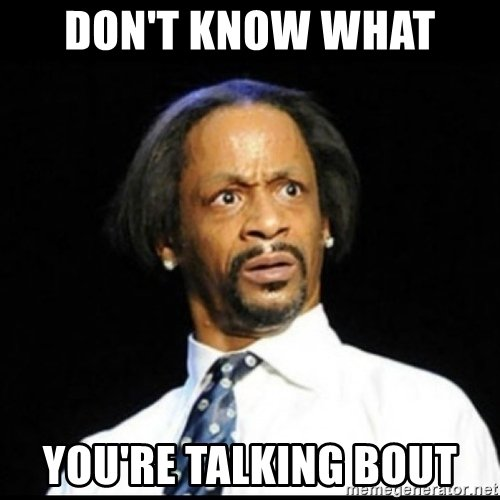confused: (175, 128, 326, 330)
